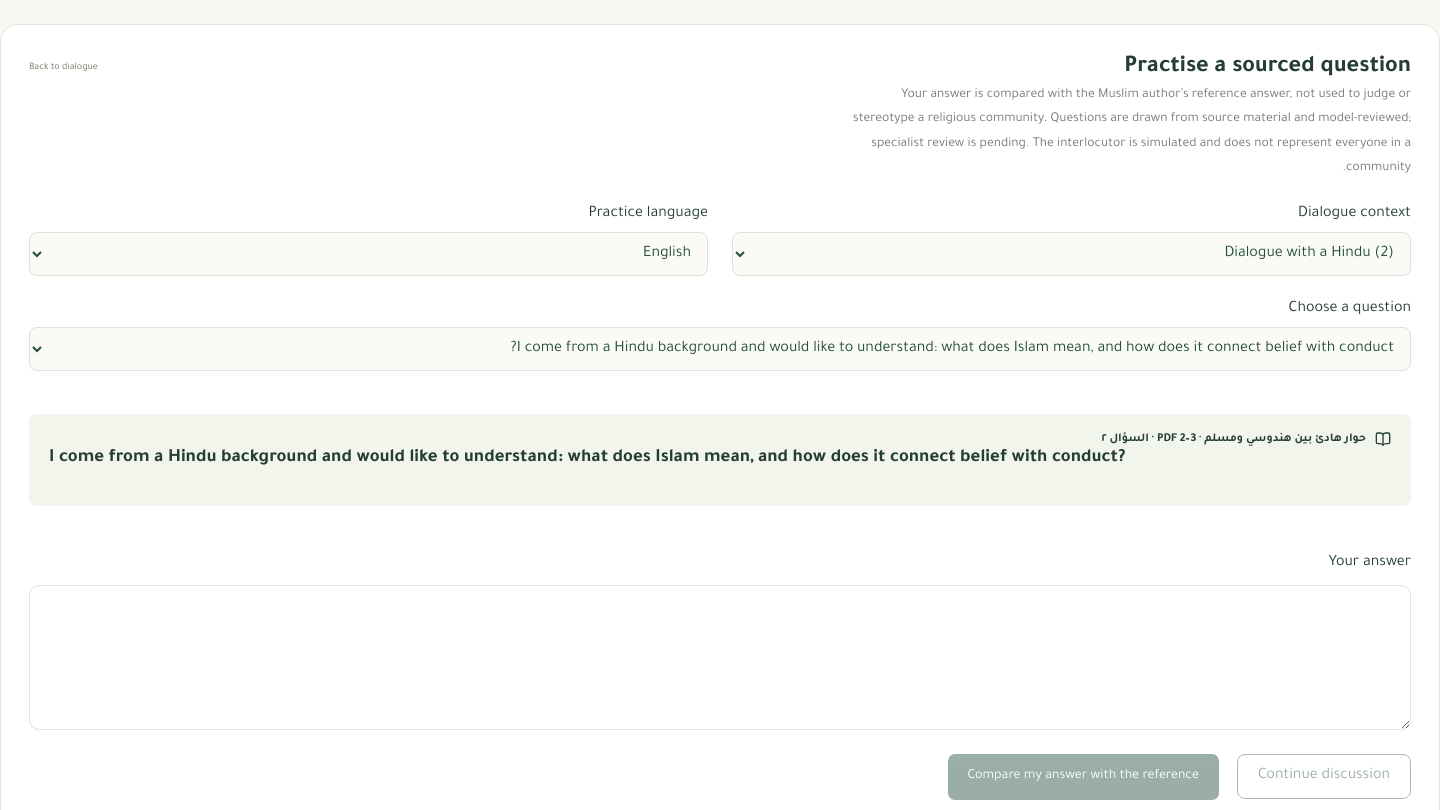
Test: does not advance or lose the answer when automatic assessment fails; retries safely
Expected: the heading named "I come from a Hindu background and would like to understand: what does Islam mean, and how does it connect belief with c" is shown, [49,449,1125,468]
Type "Keep this answer" into the text box labelled "Your answer".
click(720, 657); type("Keep this answer")  # box [29,585,1411,730]
(page scrolled)
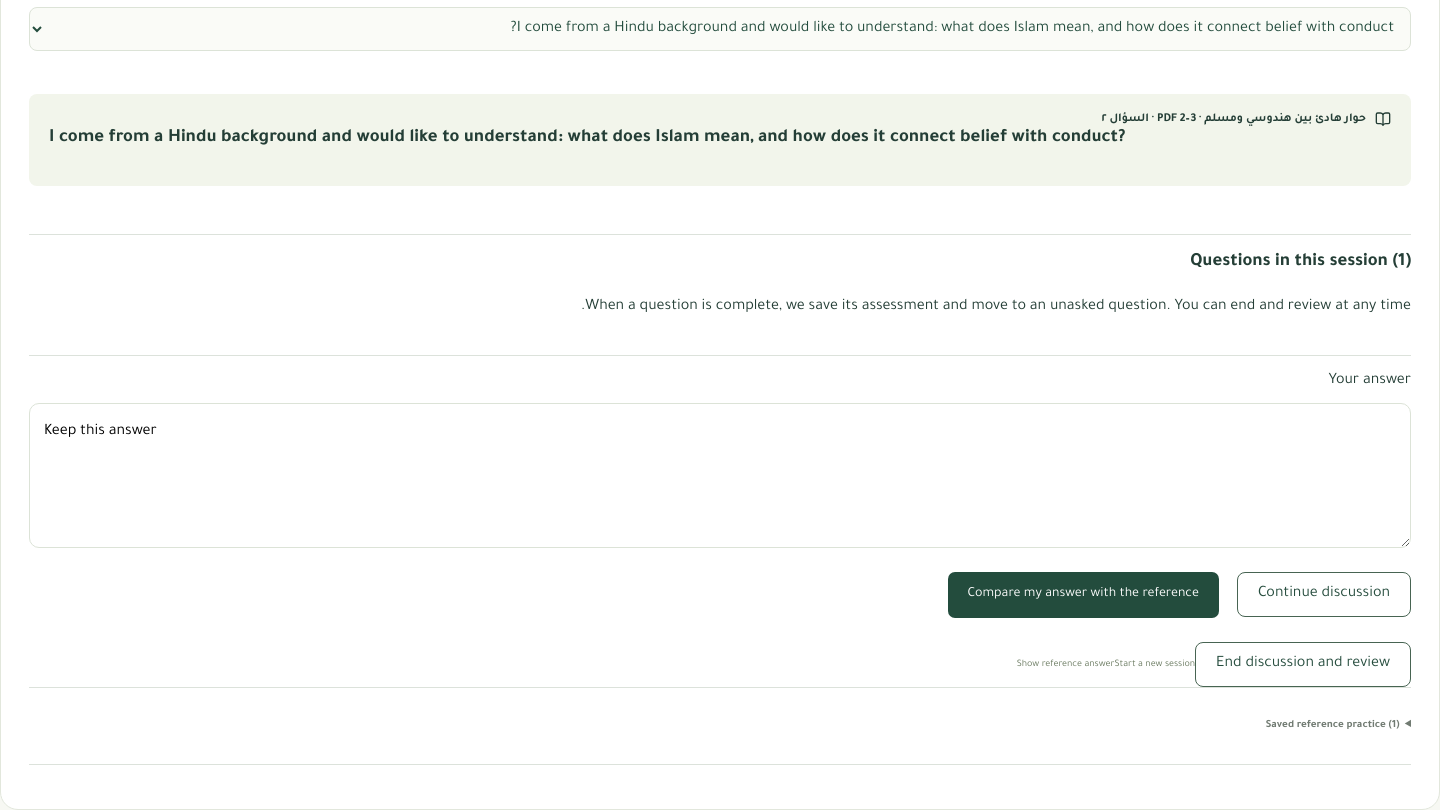
Click the button "Continue discussion".
click(1324, 595)  # box [1237,572,1411,617]
(page scrolled)
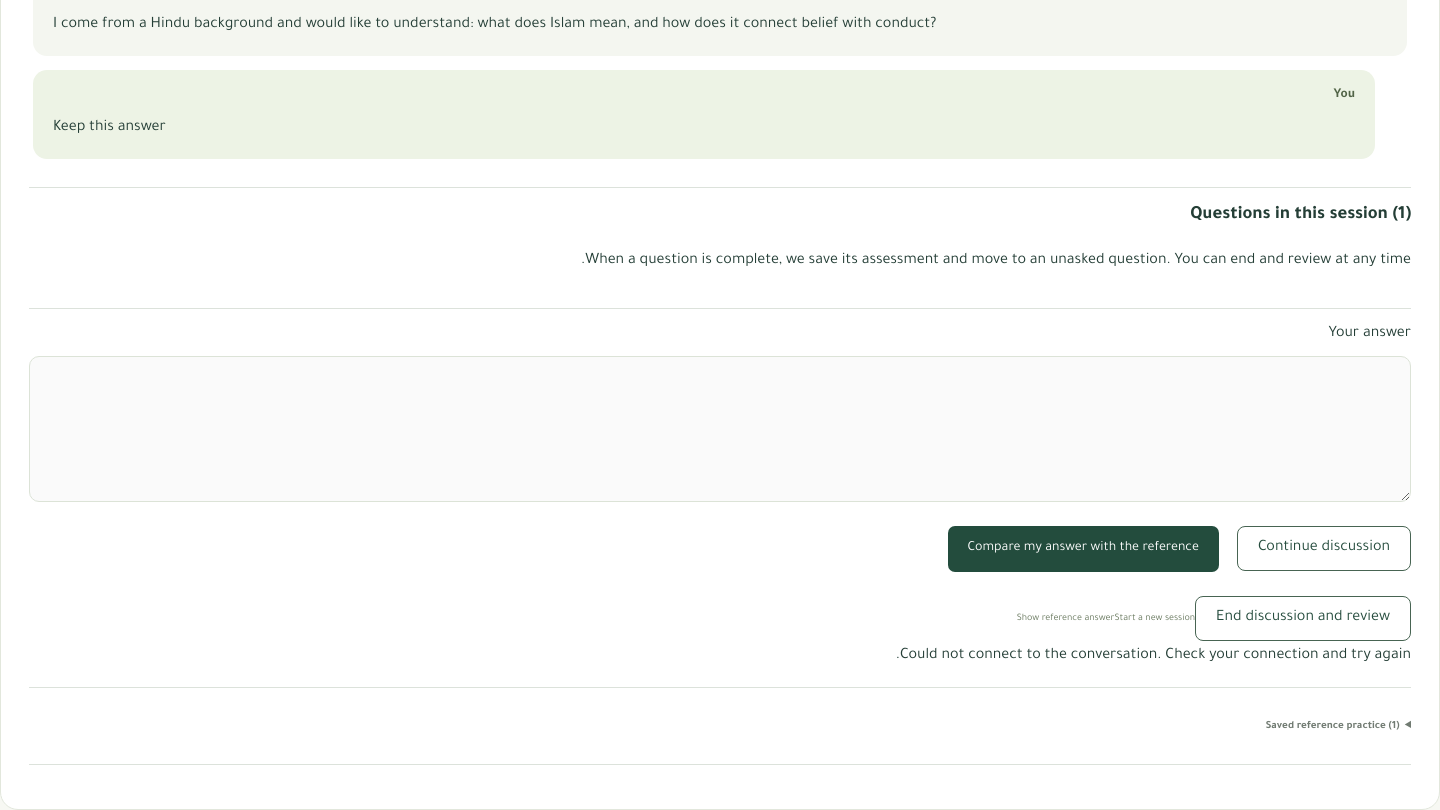
Now the message "Could not connect to the conversation. Check your connection and try again." is shown, box [896,648,1411,664]
Now the text "Keep this answer" is shown, box [53,120,166,136]
Click the button "Continue discussion".
click(1324, 549)  # box [1237,526,1411,571]
(page scrolled)
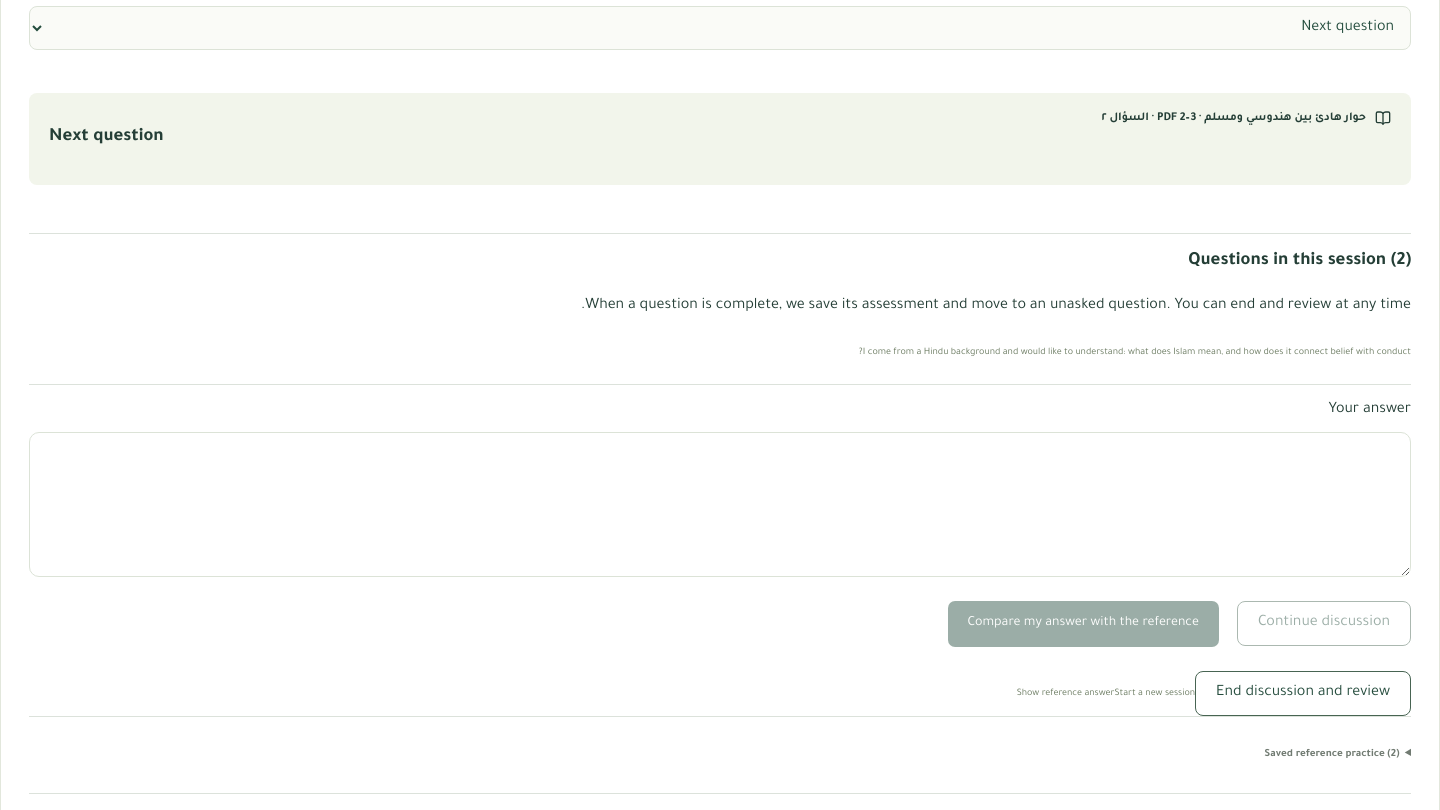
Now the heading "Next question" is shown, box [49,128,164,147]
